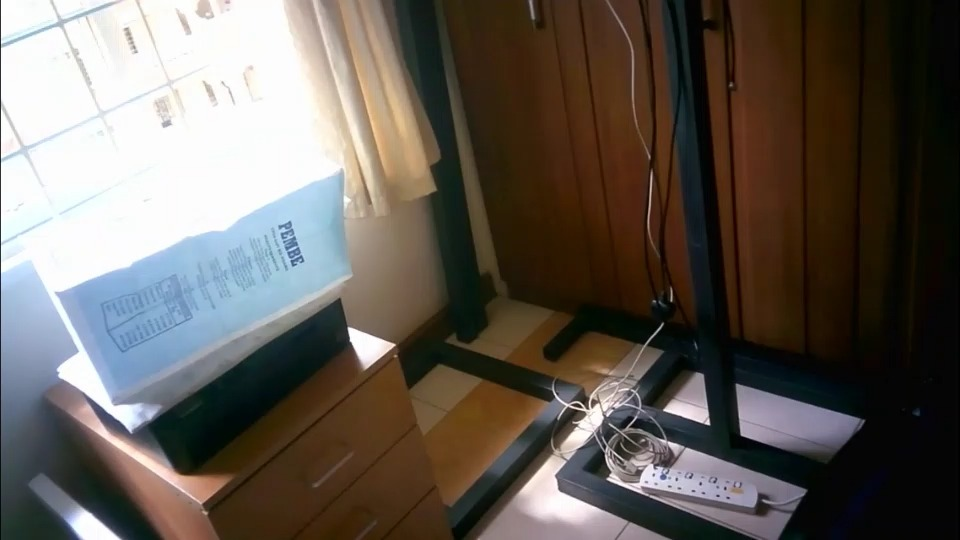wheat_flour_blue_label: (43, 162, 360, 394)
